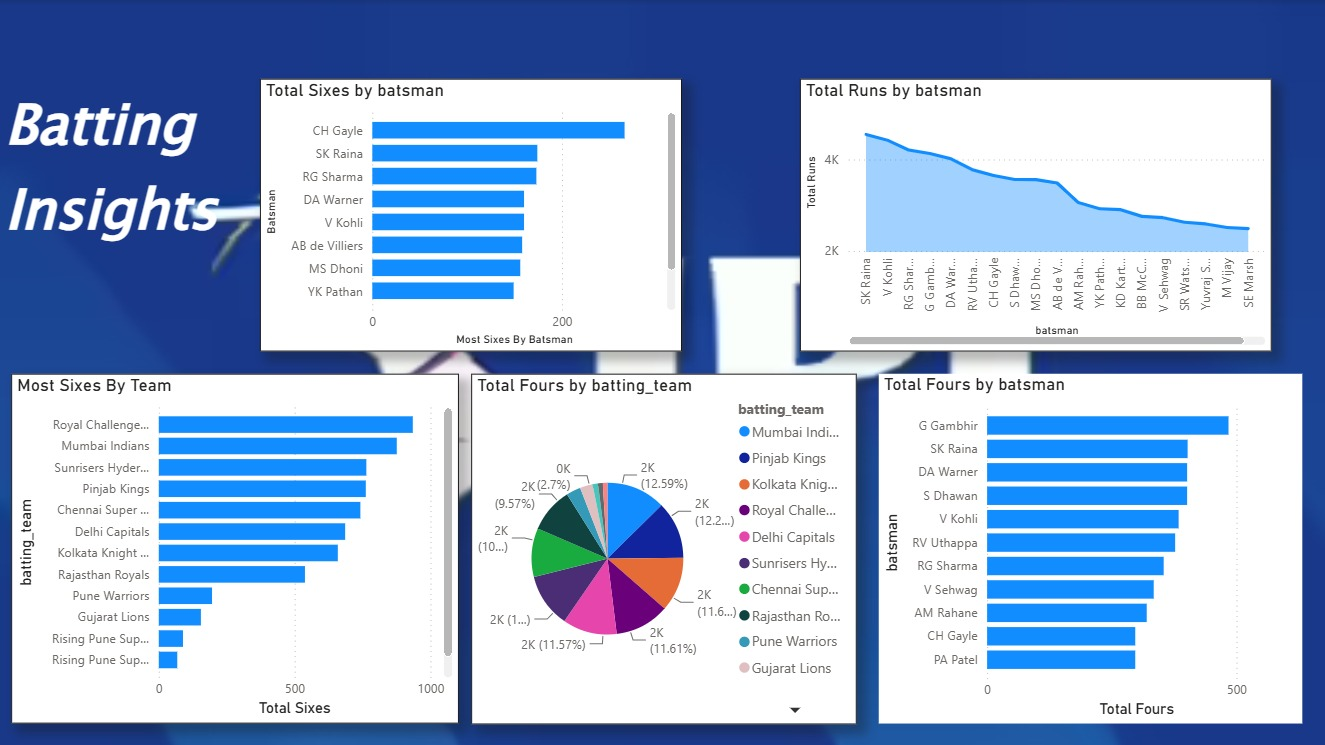

What the dashboard file says about the page in this screenshot:
{"tool":"powerbi","page":{"name":"Batting Insights","canvas":[1280,720],"ordinal":1},"visuals":[{"type":"stackedAreaChart","fields":{"Category":["deliveries - deliveries csv.batsman"],"Y":["Measures (3).Total Runs"]},"box":[771.7,76.3,455.4,263.4],"z":0},{"type":"clusteredBarChart","fields":{"Category":["deliveries - deliveries csv.batsman"],"Y":["Measures (3).Total Sixes"]},"box":[251.1,76.3,407.4,263.4],"z":4000},{"type":"clusteredBarChart","title":"Most Sixes By Team","fields":{"Category":["deliveries - deliveries csv.batting_team"],"Y":["Measures (3).Total Sixes"]},"box":[11.1,360.6,432,337.2],"z":5000},{"type":"clusteredBarChart","fields":{"Category":["deliveries - deliveries csv.batsman"],"Y":["Measures (3).Total Fours"]},"box":[848,360.6,408.6,337.2],"z":6000},{"type":"pieChart","fields":{"Category":["deliveries - deliveries csv.batting_team"],"Y":["Measures (3).Total Fours"]},"box":[455.4,360.6,371.7,338.5],"z":7000},{"type":"textbox","box":[0,76.3,299.1,238.8],"z":7001}]}

Visuals, with their boxes in screenshot pixels (x1, y1, x2, y2), scaled from the page's 1280x720 canvas onto the 1325x745 screenshot:
stackedAreaChart - deliveries - deliveries csv.batsman x Measures (3).Total Runs: [799,79,1270,351]
clusteredBarChart - deliveries - deliveries csv.batsman x Measures (3).Total Sixes: [260,79,682,351]
"Most Sixes By Team" clusteredBarChart: [11,373,459,722]
clusteredBarChart - deliveries - deliveries csv.batsman x Measures (3).Total Fours: [878,373,1301,722]
pieChart - deliveries - deliveries csv.batting_team x Measures (3).Total Fours: [471,373,856,723]
textbox: [0,79,310,326]
